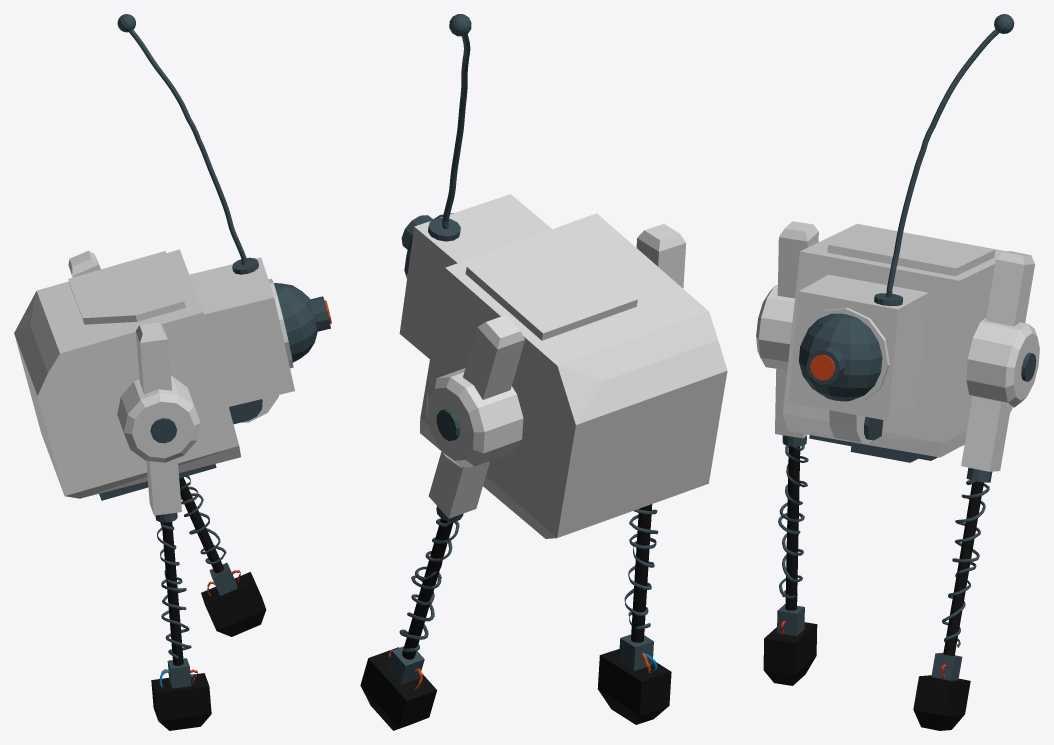
The picture shows the model from 3 angles, left to right: view 1: azimuth 30°, elevation 25°; view 2: azimuth 150°, elevation 25°; view 3: azimuth 270°, elevation 25°; orthographic projection. The views are drawn at different scales.
Visible parts, largest first — view 1: node_MeshObject-1623304192-PolyPaper21, node_MeshObject-1051225088-PolyPaper17; view 2: node_MeshObject-1623304192-PolyPaper21, node_MeshObject-1051225088-PolyPaper17; view 3: node_MeshObject-1623304192-PolyPaper21, node_MeshObject-1051225088-PolyPaper17.
Part boxes in pixels (<box>): node_MeshObject-1623304192-PolyPaper21: <box>14,14,331,730</box>; node_MeshObject-1051225088-PolyPaper17: <box>161,493,226,658</box>; node_MeshObject-1623304192-PolyPaper21: <box>360,14,727,730</box>; node_MeshObject-1051225088-PolyPaper17: <box>399,537,656,651</box>; node_MeshObject-1623304192-PolyPaper21: <box>756,14,1039,730</box>; node_MeshObject-1051225088-PolyPaper17: <box>778,512,976,647</box>.
Size of the model in its own units: 1.2 by 2.61 by 0.9771.
